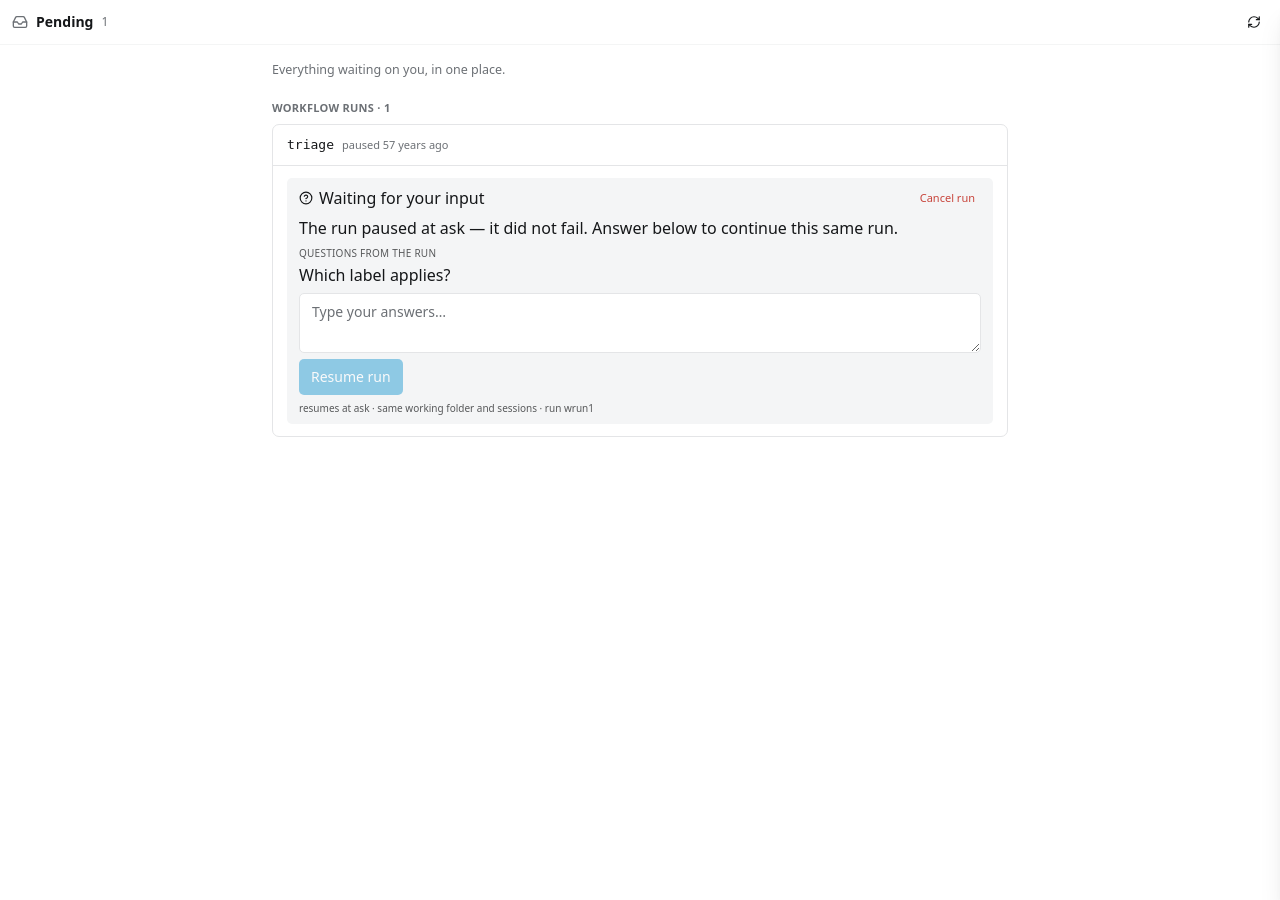
Scenario: PendingView › cancels a workflow run only after confirming in the page
Click the button "Cancel run". click: (947, 198)
box: [914,186,981,210]
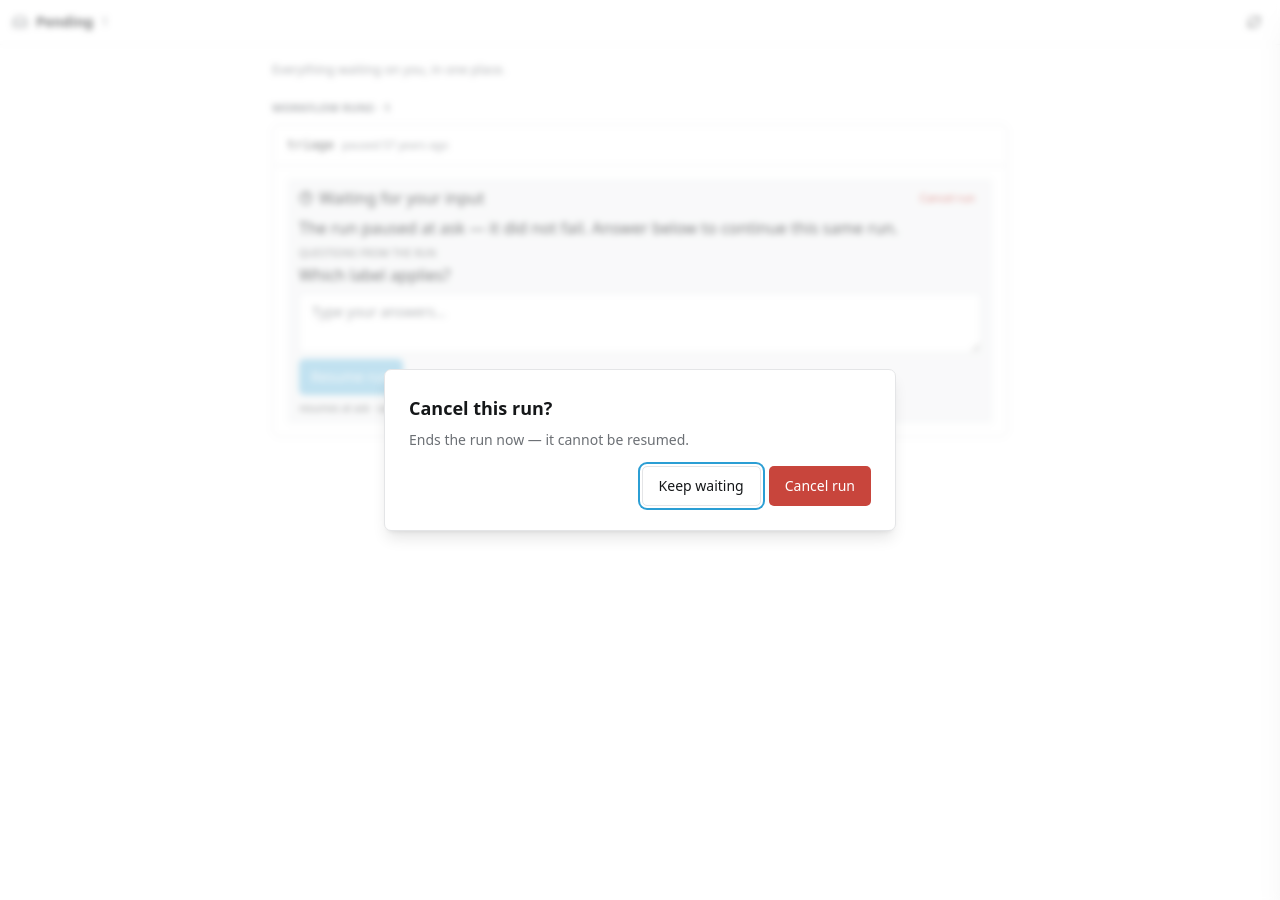
Click the button "Cancel run". click: (820, 486)
box: [769,466,871,506]
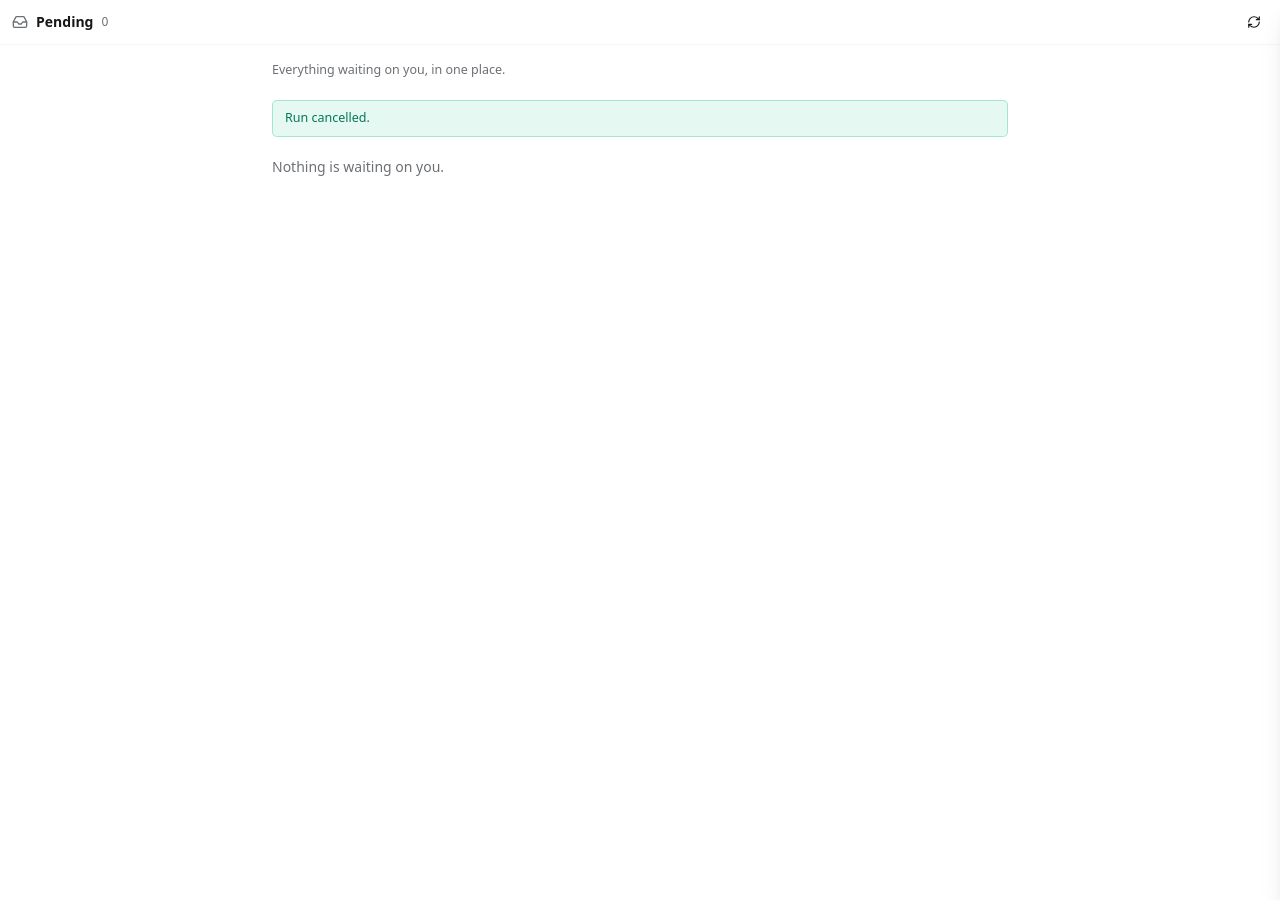
Check: the text "Nothing is waiting on you." is shown, box [272,156,444,176]
